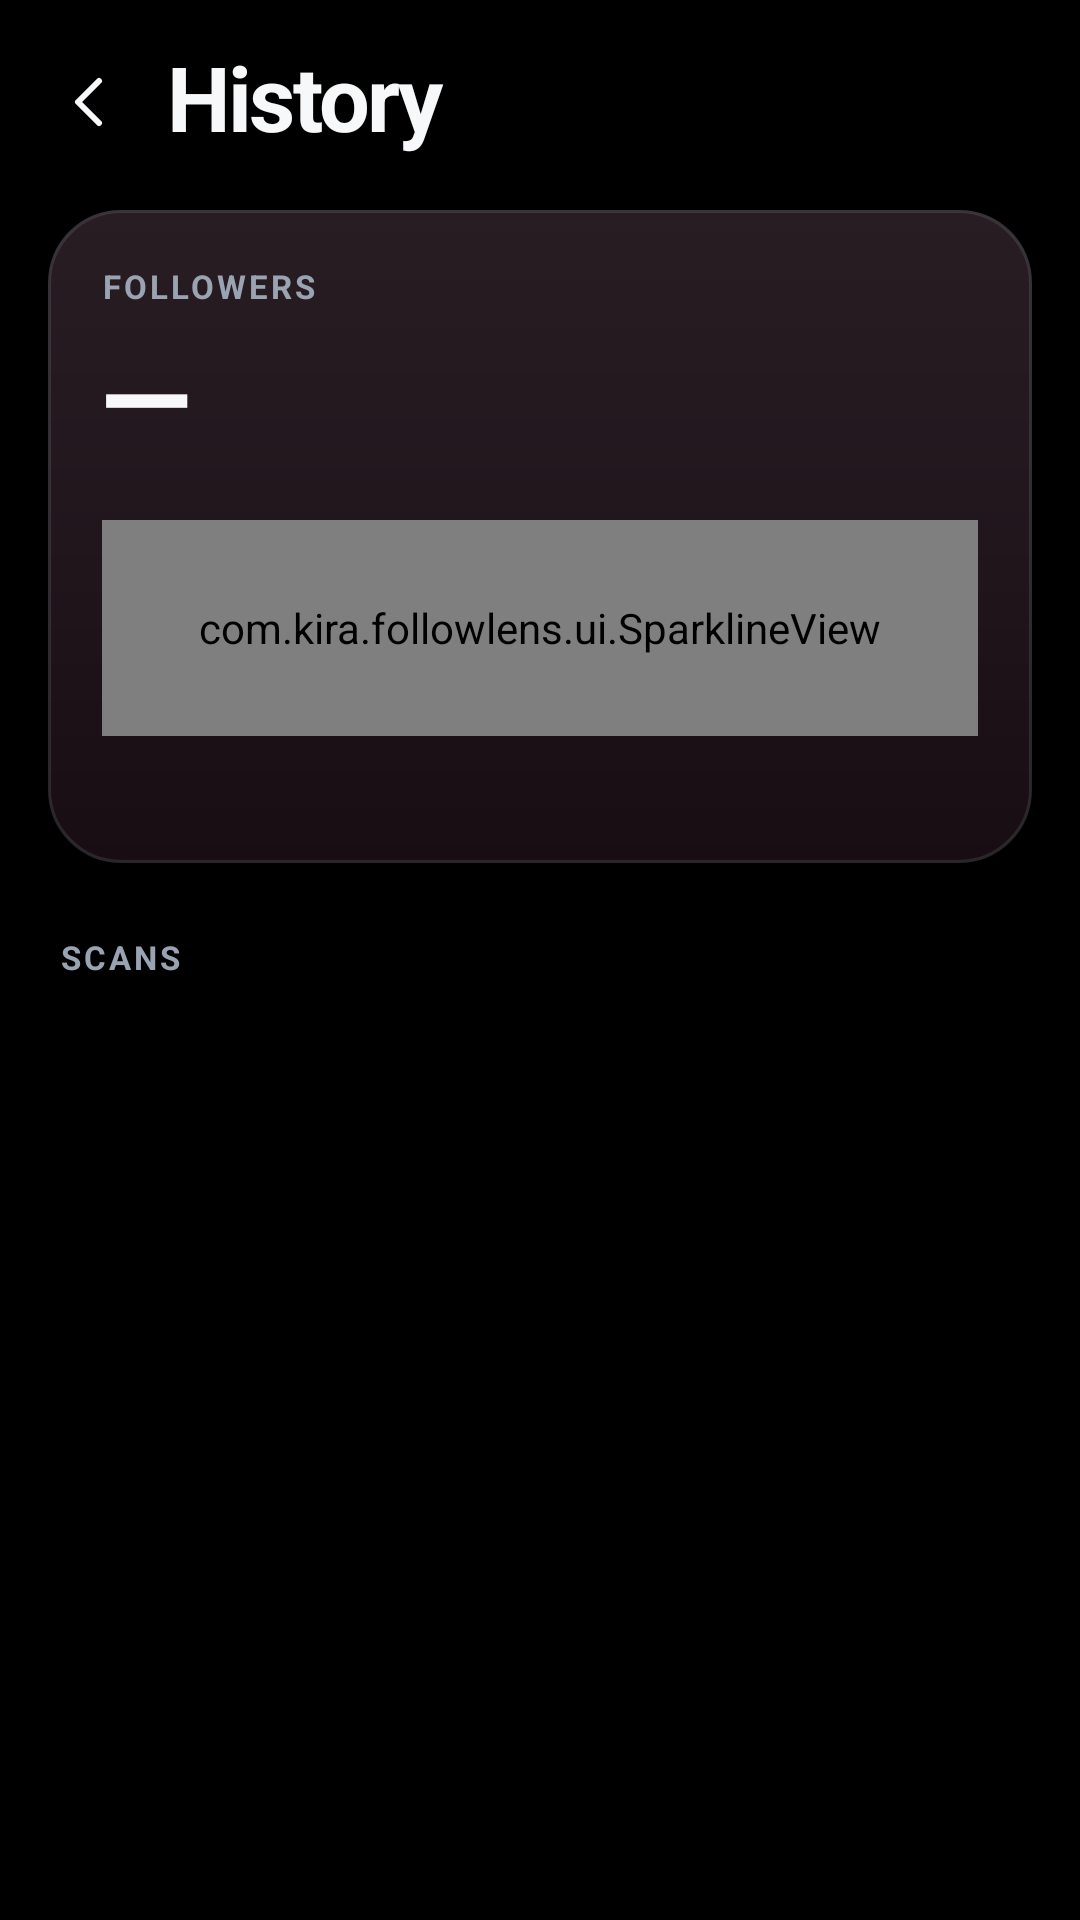

Screen size 1080px×1920px. Icon name, then its center in pixels as (x,y):
Back: (88,102)
